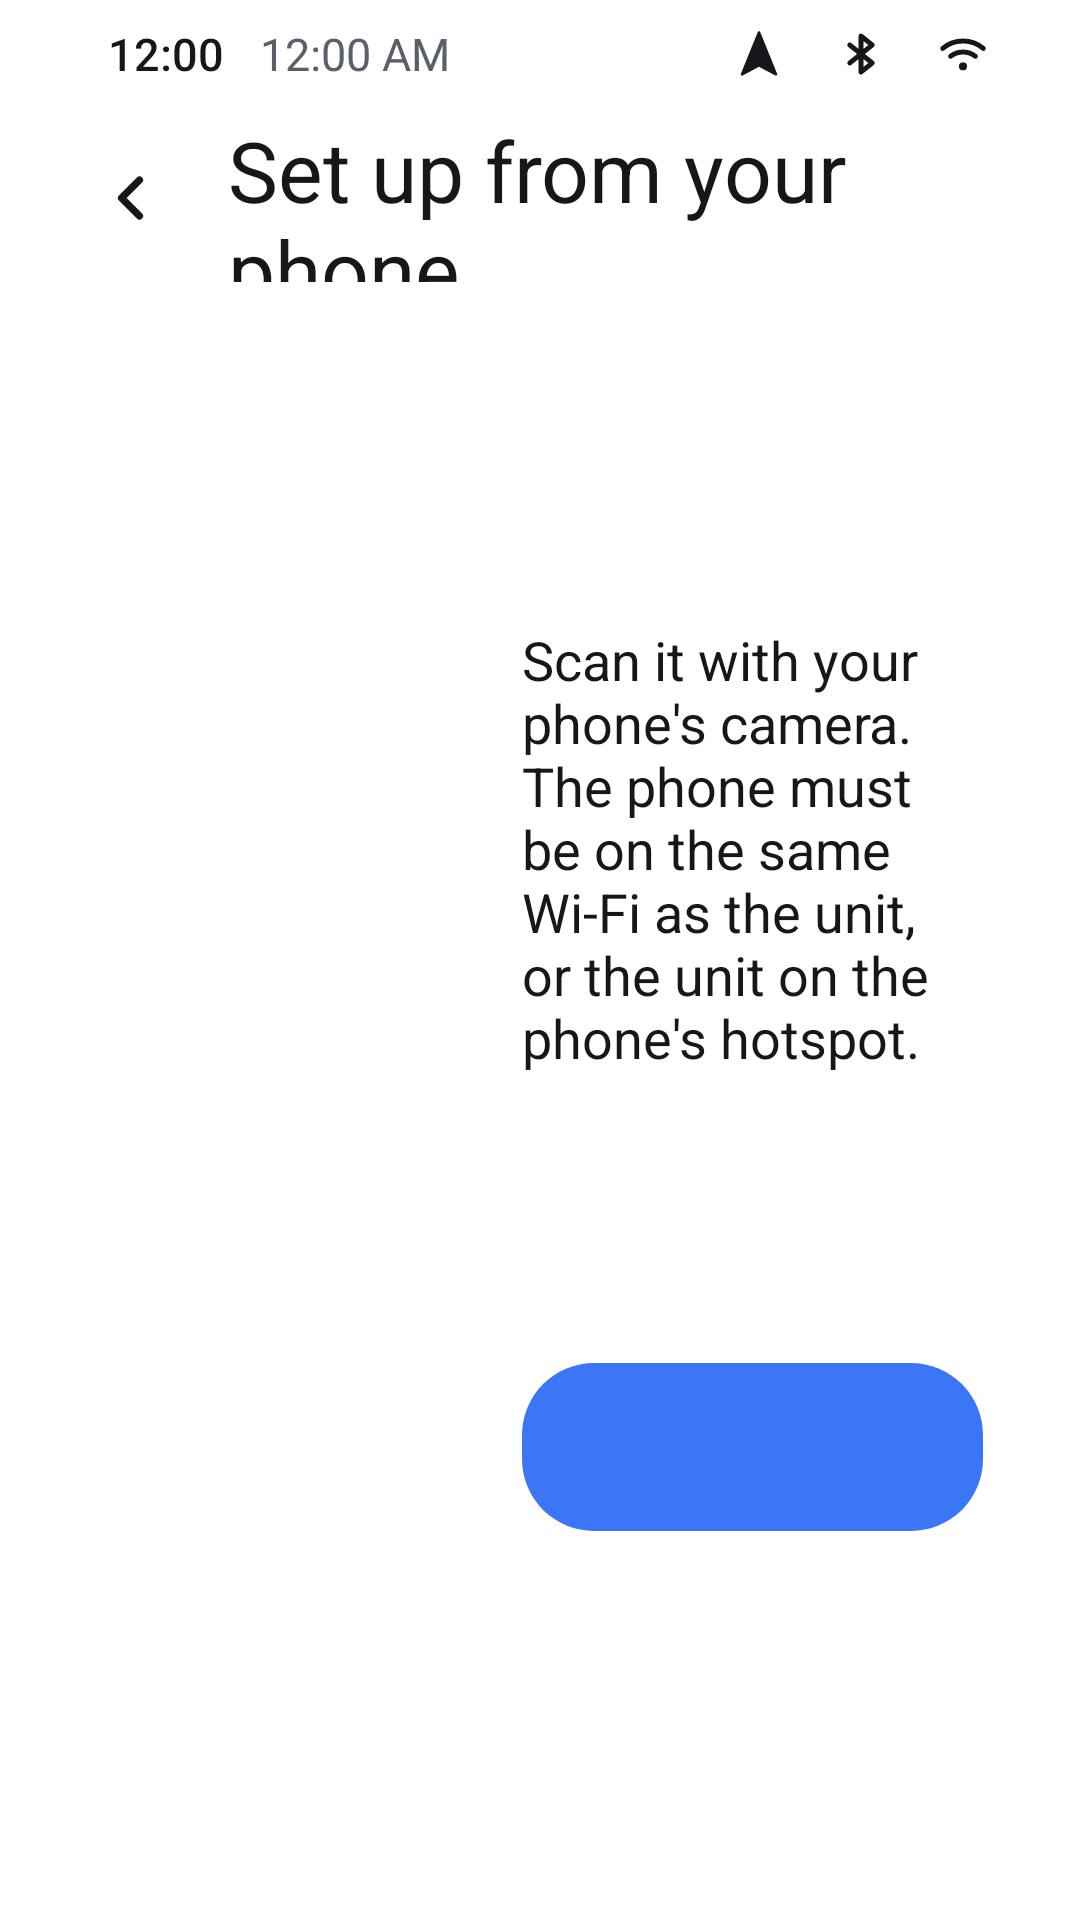

Icons on this 1080×1920 Android screen, each with its box as (x1, y1, x2, y2):
Back: (117, 176, 144, 220)
wifi: (940, 38, 986, 71)
